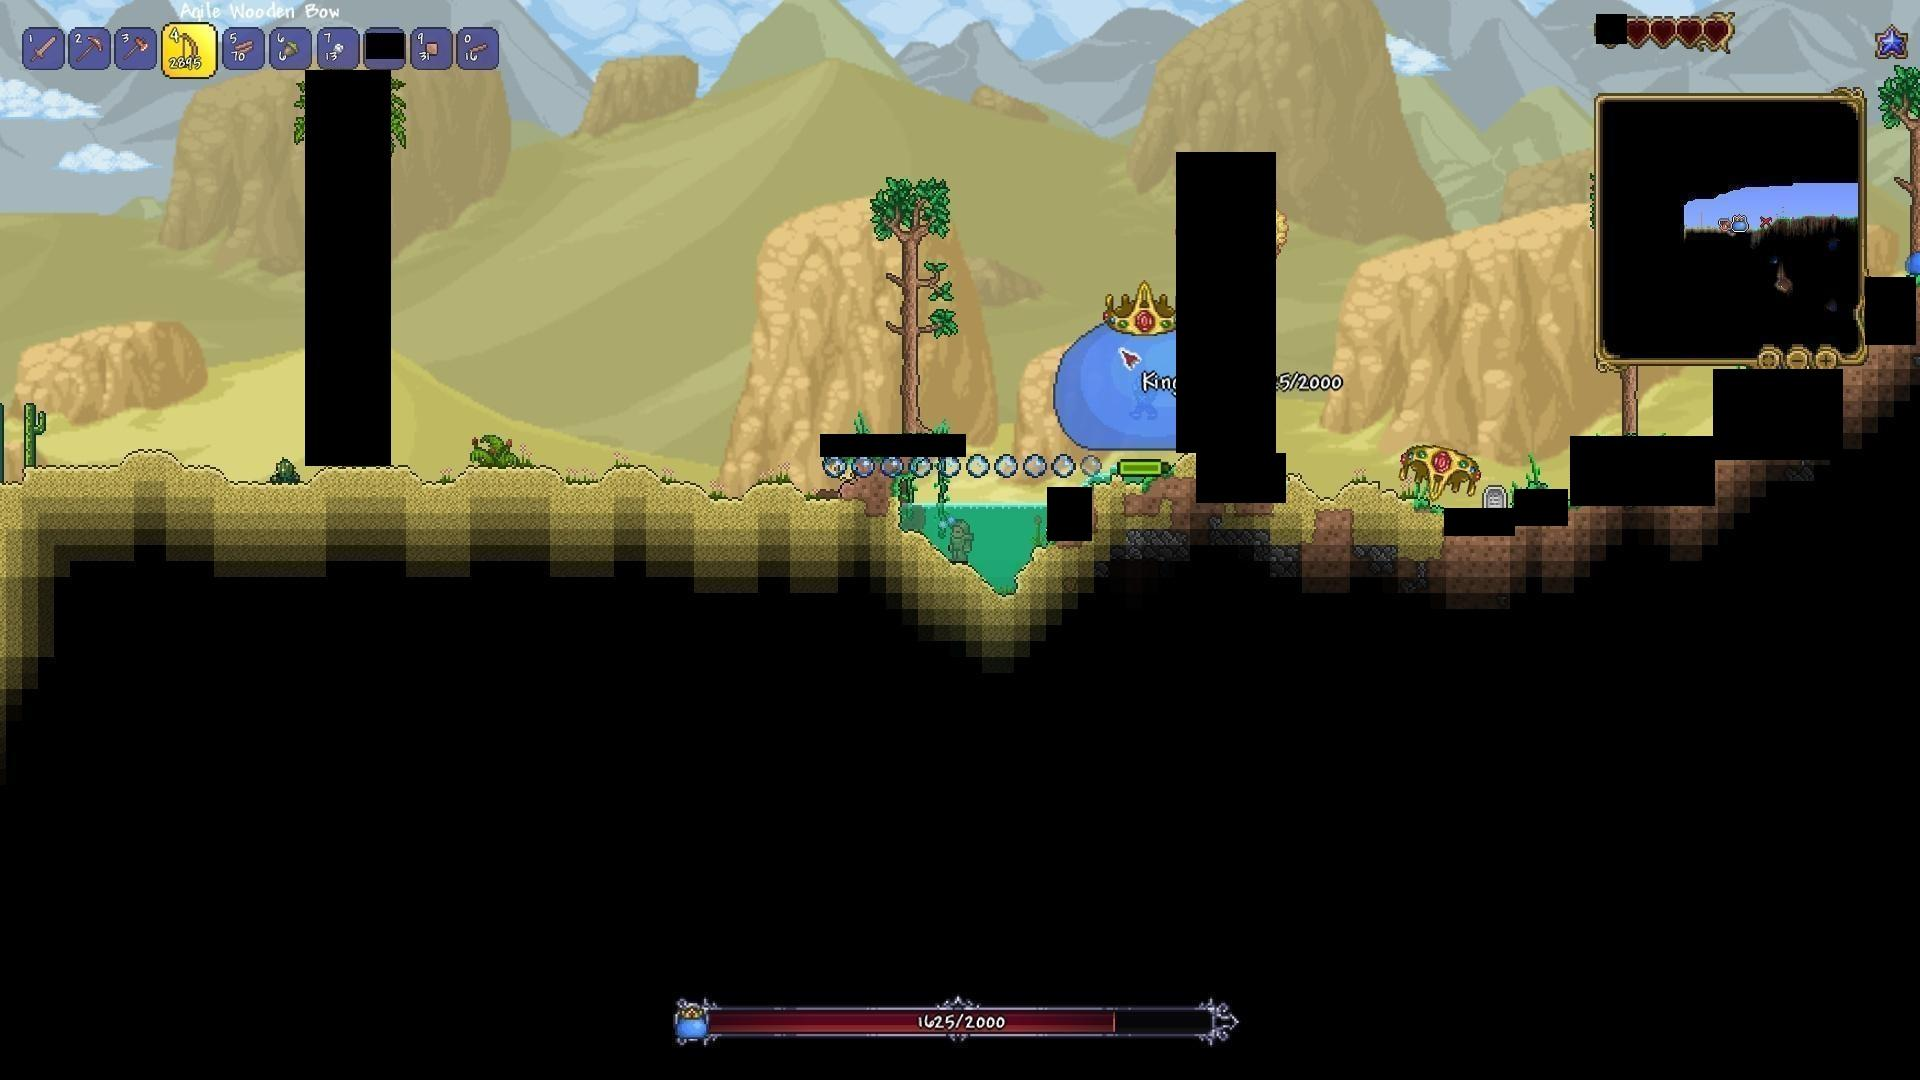slime: (1900, 251, 1920, 280)
tree: (876, 165, 945, 433), (1884, 67, 1917, 251)
wood: (228, 33, 260, 63)
